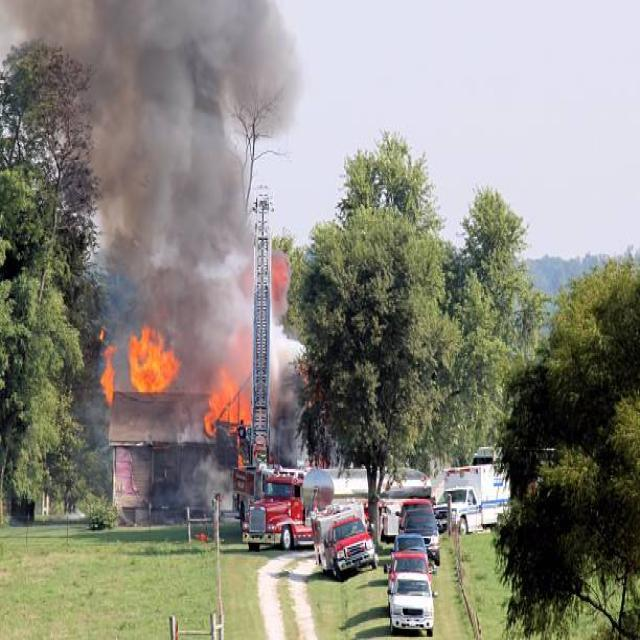Fire: (104, 308, 182, 401), (200, 350, 250, 450)
Smoke: (76, 17, 264, 358)
